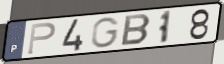1: (158, 8, 174, 45)
4: (61, 18, 85, 53)
8: (189, 8, 210, 41)
B: (119, 13, 153, 47)
G: (90, 16, 122, 50)
P: (26, 21, 58, 56)
